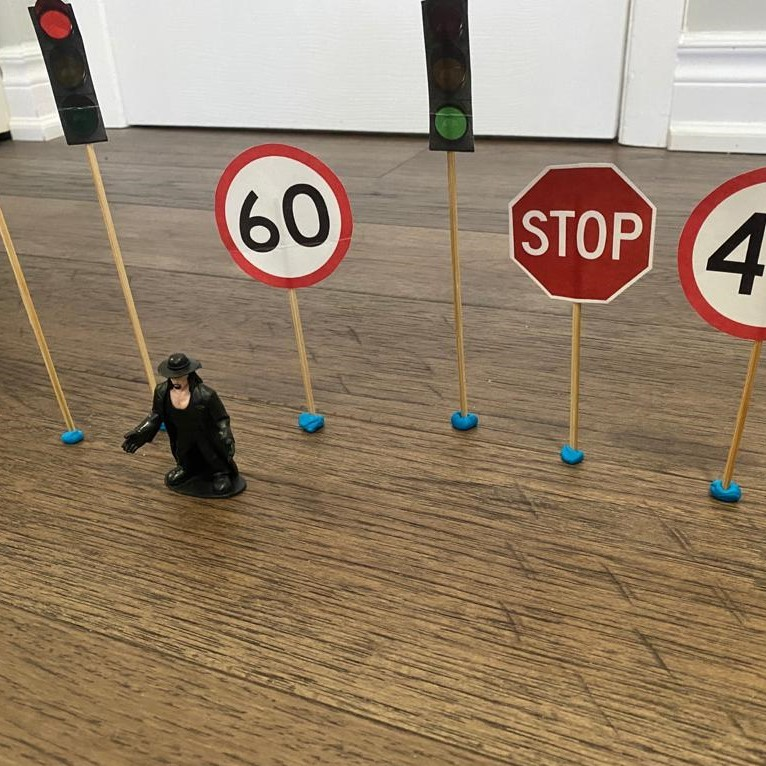Person: (123, 347, 249, 507)
Red Traffic Light: (24, 1, 113, 147)
Speed Limit 60: (209, 140, 355, 291)
Stop Sign: (506, 159, 659, 308)
